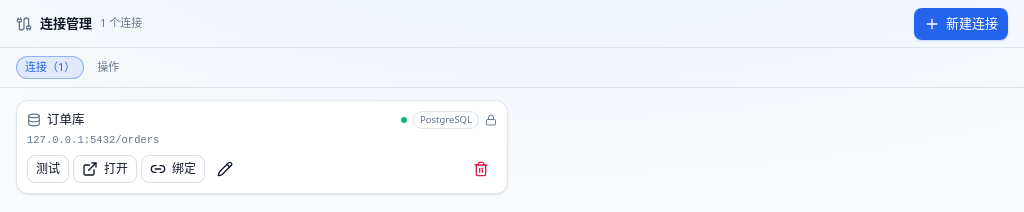
it: M22：连接管理（控制台）与 store › 连接清单渲染（含密文标记与主机信息）并在「操作」页签展示事件流
Expected: the text "订单库" is shown, [47,110,84,128]
Expected: the text "PostgreSQL" is shown, [413,111,479,129]
Click the button "操作": [108, 67] box [88,56,128,78]
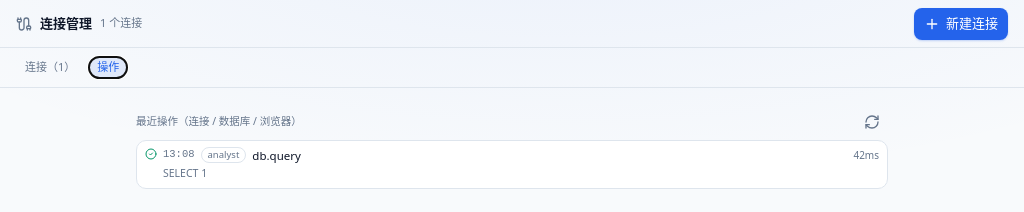
Result: the text "db.query" is shown at [252,148,301,162]
Result: the text "SELECT 1" is shown at [163,166,207,180]
